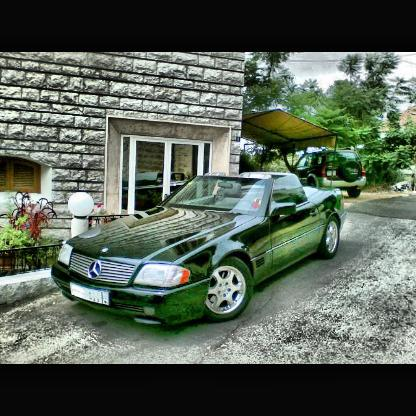Mercedes-Benz 300-Class Convertible 1993: (49, 170, 353, 334)
